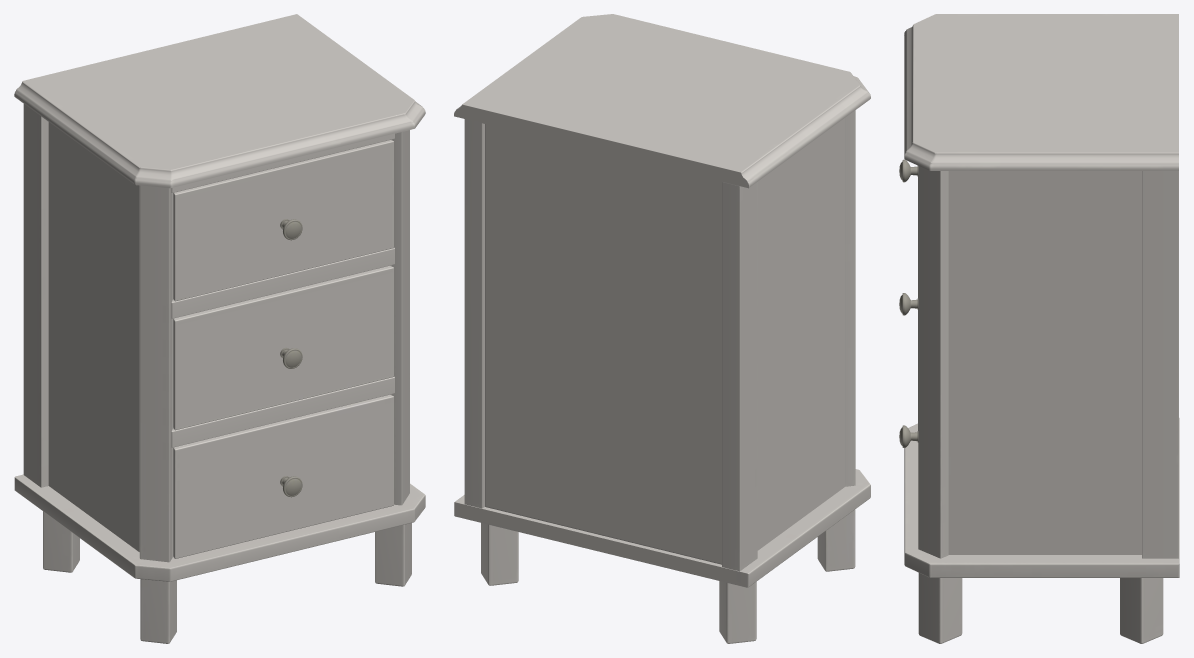
The model's file is abo-B07DBDZC9N.glb.
The picture shows the model from 3 angles, left to right: view 1: azimuth 30°, elevation 25°; view 2: azimuth 150°, elevation 25°; view 3: azimuth 270°, elevation 25°; orthographic projection. The views are drawn at different scales.
Bounding box in the file's own units: 0.435 × 0.681 × 0.351.
1 material, 1 textured.
